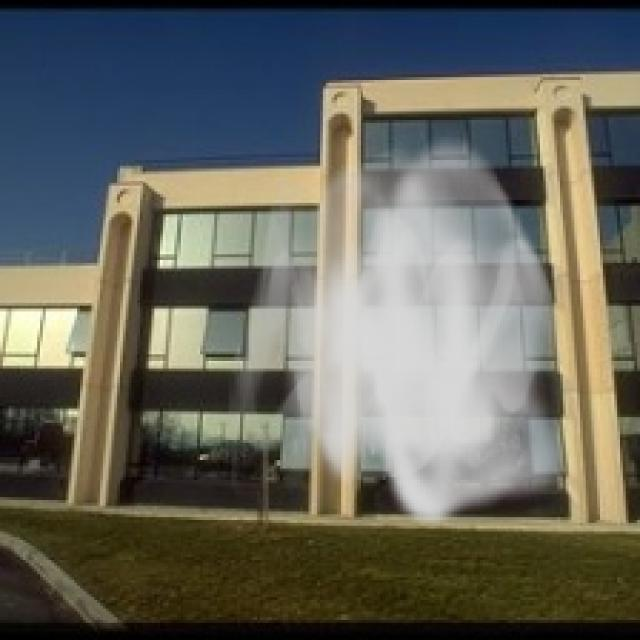smoke: (223, 126, 574, 528)
